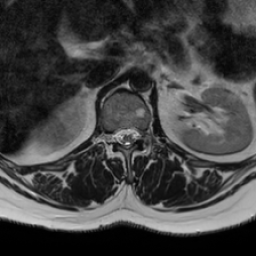CCS_normal: (123, 118, 131, 155)
LFS_normal: (139, 118, 147, 147)
LLS_normal: (131, 119, 140, 149)
RFS_normal: (106, 123, 114, 149)
RLS_normal: (114, 119, 123, 149)
